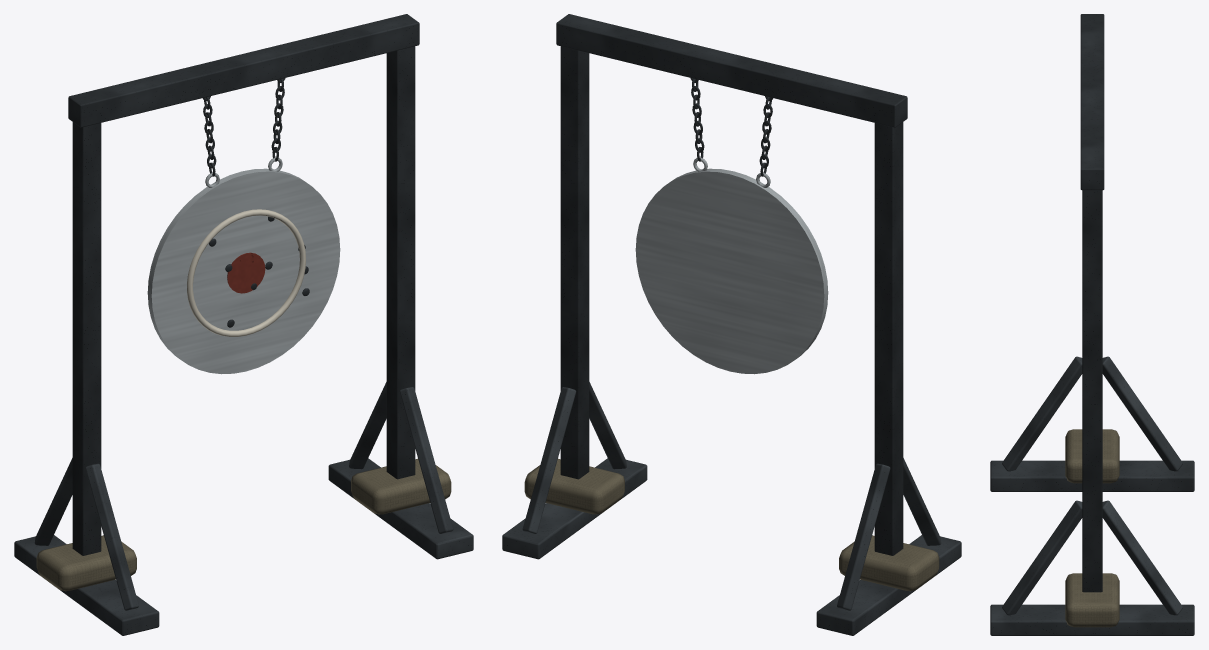
3 renders of one model, left to right at view 1: azimuth 30°, elevation 25°; view 2: azimuth 150°, elevation 25°; view 3: azimuth 270°, elevation 25°, orthographic. The views are drawn at different scales.
Parts seen in each view (by area): view 1: blackened strap iron, machined steel, forged iron, waxed canvas, chalk white enamel, faded red enamel; view 2: blackened strap iron, machined steel, forged iron, waxed canvas; view 3: forged iron, blackened strap iron, waxed canvas.
Part boxes in pixels (<box>): blackened strap iron: <box>68,14,419,555</box>; machined steel: <box>147,157,340,374</box>; forged iron: <box>14,382,473,635</box>; waxed canvas: <box>36,458,451,591</box>; chalk white enamel: <box>187,209,305,336</box>; faded red enamel: <box>227,252,265,293</box>; blackened strap iron: <box>556,14,907,555</box>; machined steel: <box>635,157,828,374</box>; forged iron: <box>502,382,961,635</box>; waxed canvas: <box>524,458,939,591</box>; forged iron: <box>990,356,1194,635</box>; blackened strap iron: <box>1080,14,1104,592</box>; waxed canvas: <box>1065,429,1119,627</box>.
Bounding box in the file's own units: 1.25 × 1.5 × 0.6.
Materials: 6 (6 with a texture image).
